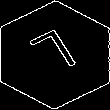L_SE: (26, 26, 84, 84)
